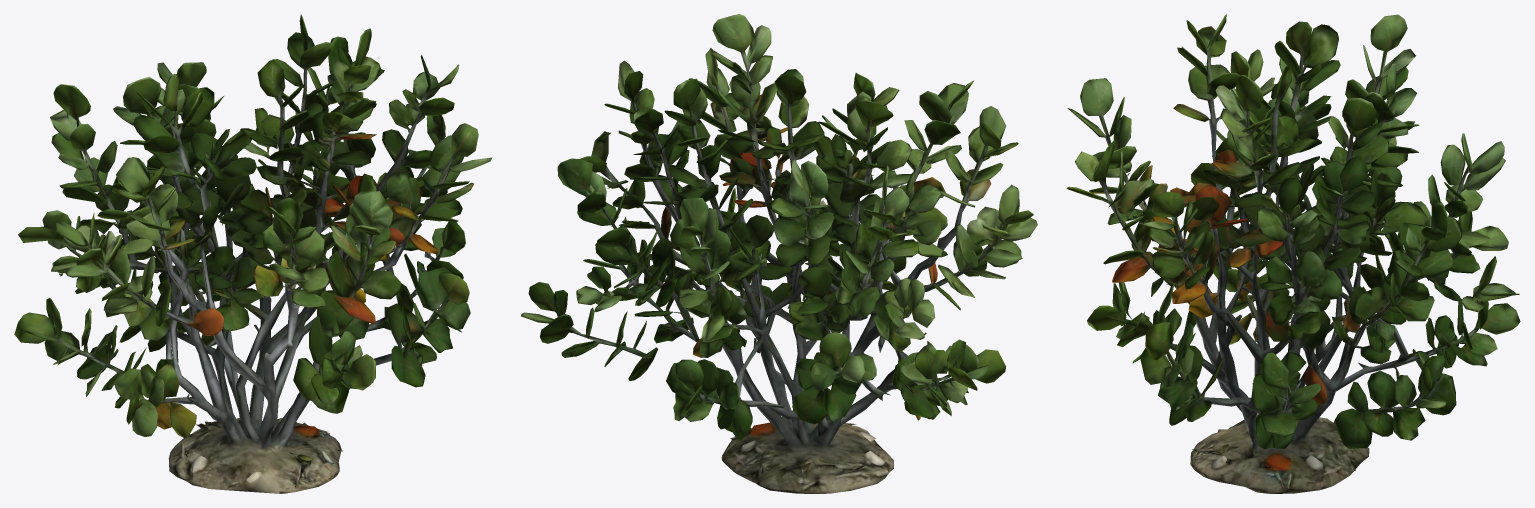
File: CCG_SeaGrape_web.glb
3 renders of one model, left to right at view 1: azimuth 30°, elevation 25°; view 2: azimuth 150°, elevation 25°; view 3: azimuth 270°, elevation 25°, orthographic. The views are drawn at different scales.
Visible parts, largest first — view 1: tripo_node_779064f3-cf46-4eb0-a949-c92c1430c0f1; view 2: tripo_node_779064f3-cf46-4eb0-a949-c92c1430c0f1; view 3: tripo_node_779064f3-cf46-4eb0-a949-c92c1430c0f1.
Part boxes in pixels (<box>): tripo_node_779064f3-cf46-4eb0-a949-c92c1430c0f1: <box>14,14,492,493</box>; tripo_node_779064f3-cf46-4eb0-a949-c92c1430c0f1: <box>521,14,1037,493</box>; tripo_node_779064f3-cf46-4eb0-a949-c92c1430c0f1: <box>1066,14,1520,493</box>.
Size of the model in its own units: 0.9778 by 0.894 by 0.8621.
Materials: 1 (1 with a texture image).
